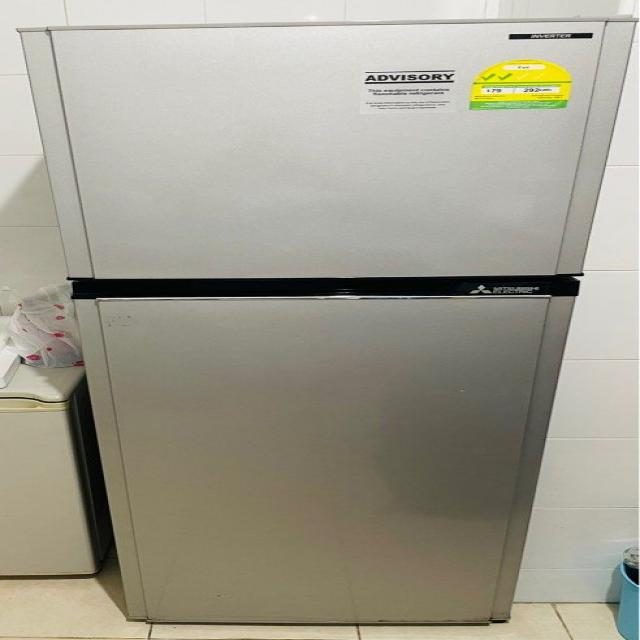refrigerator: (19, 17, 639, 634)
